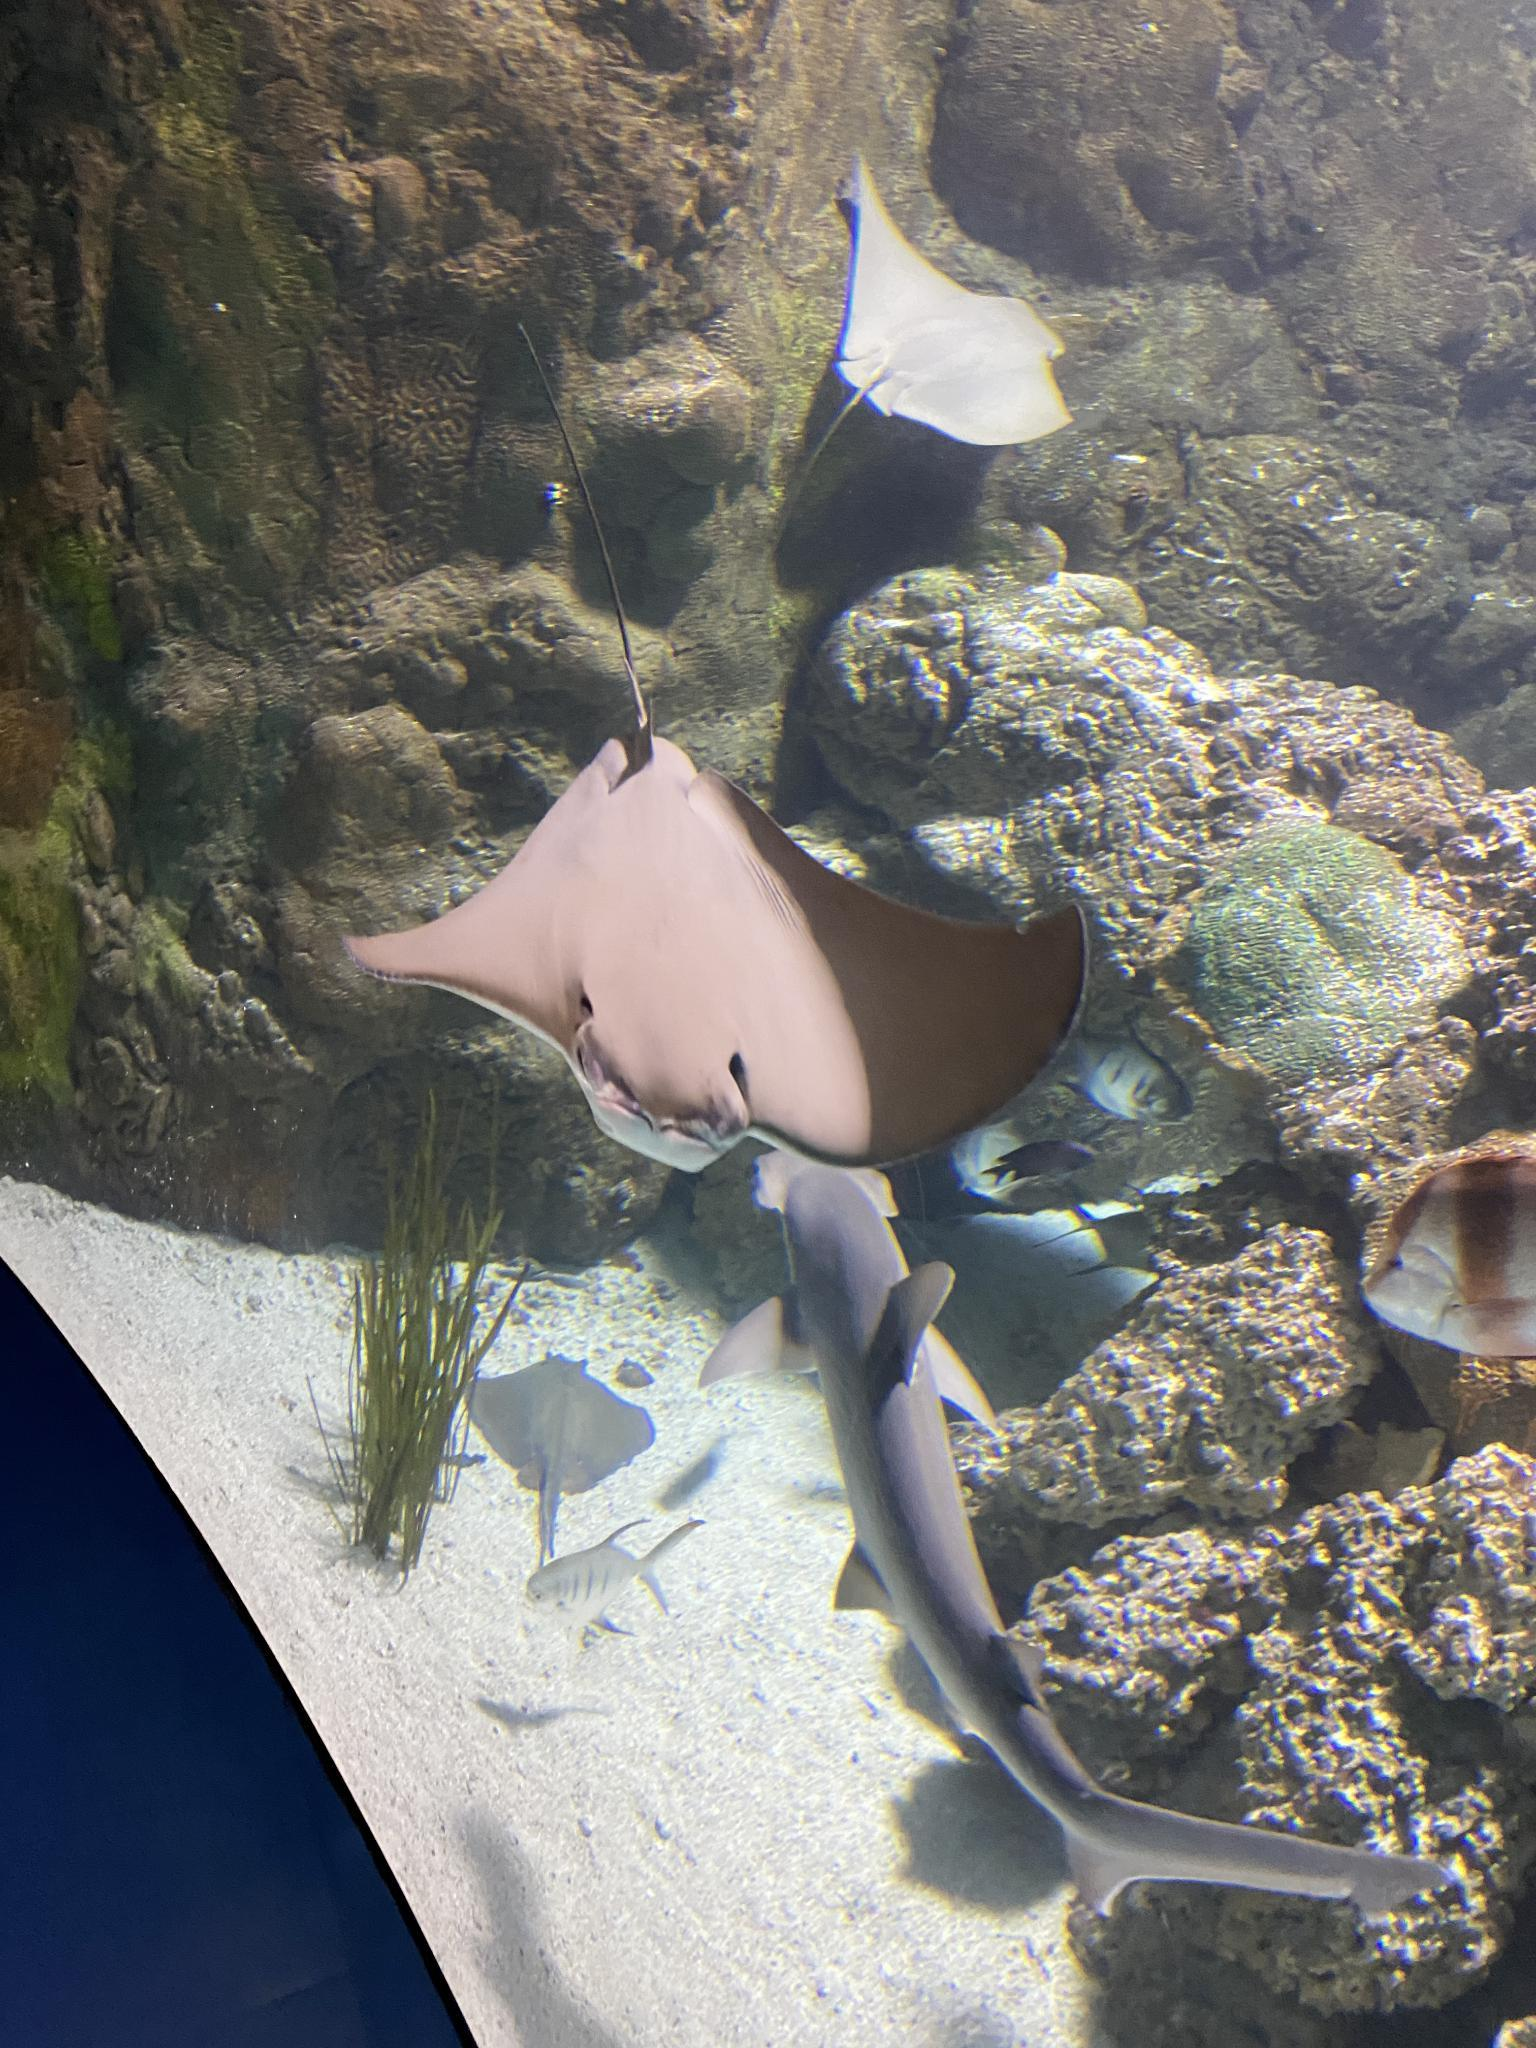fish: (1355, 1130, 1536, 1379), (518, 1509, 712, 1622)
shark: (695, 1143, 1450, 1967)
stingray: (344, 718, 1094, 1166), (833, 150, 1092, 464), (447, 1350, 662, 1506)
